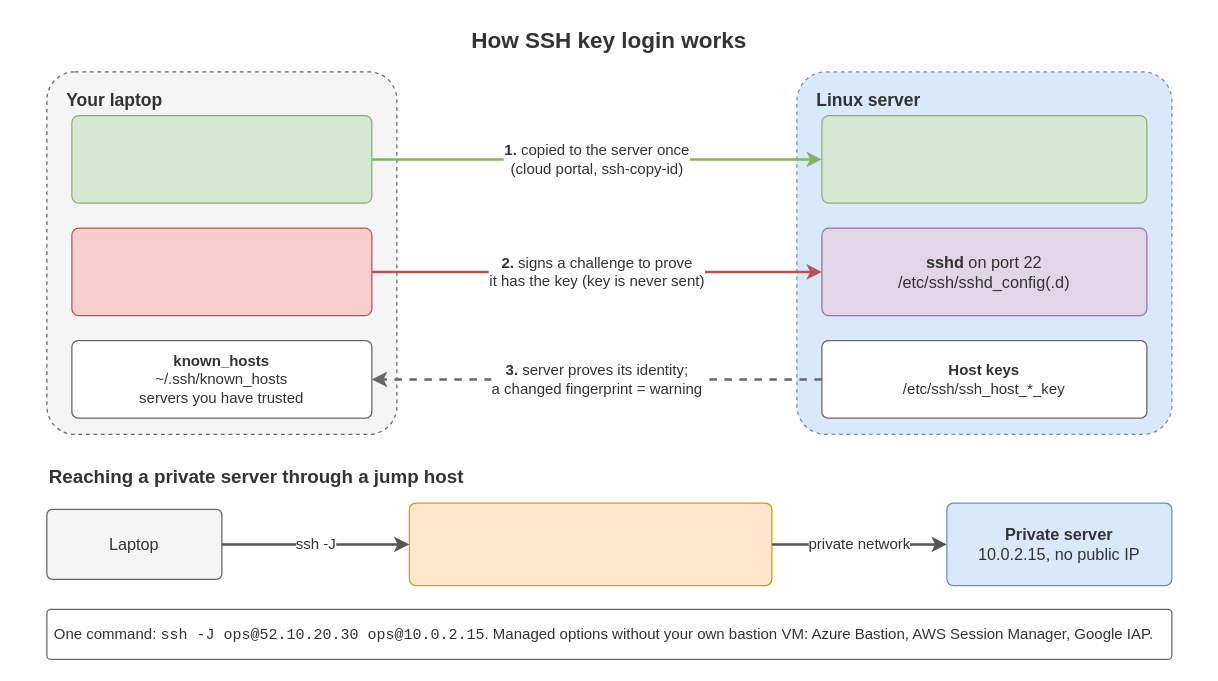
Some shapes in this 1218 by 681 pixel diagram are drawn without their labels. The centre of each missing label's shape, as x and y in pixels:
"authorized_keys ~/.ssh/authorized_keys .ssh = 700, file = 600" belongs at [984,158].
"Bastion / jump host public IP, port 22 from your IP only" belongs at [590,544].
"Private key ~/.ssh/id_ed25519 never leaves the laptop (chmod 600)" belongs at [221,271].
"Public key ~/.ssh/id_ed25519.pub safe to share" belongs at [221,158].
